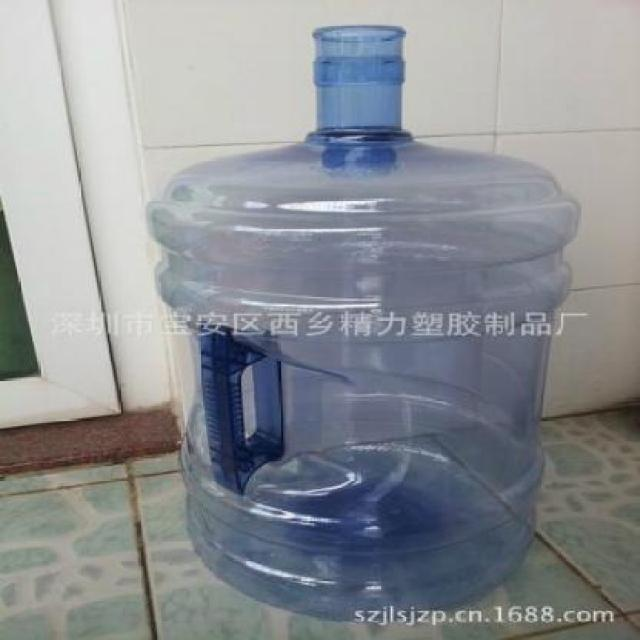coolerbottle: (137, 14, 585, 631)
